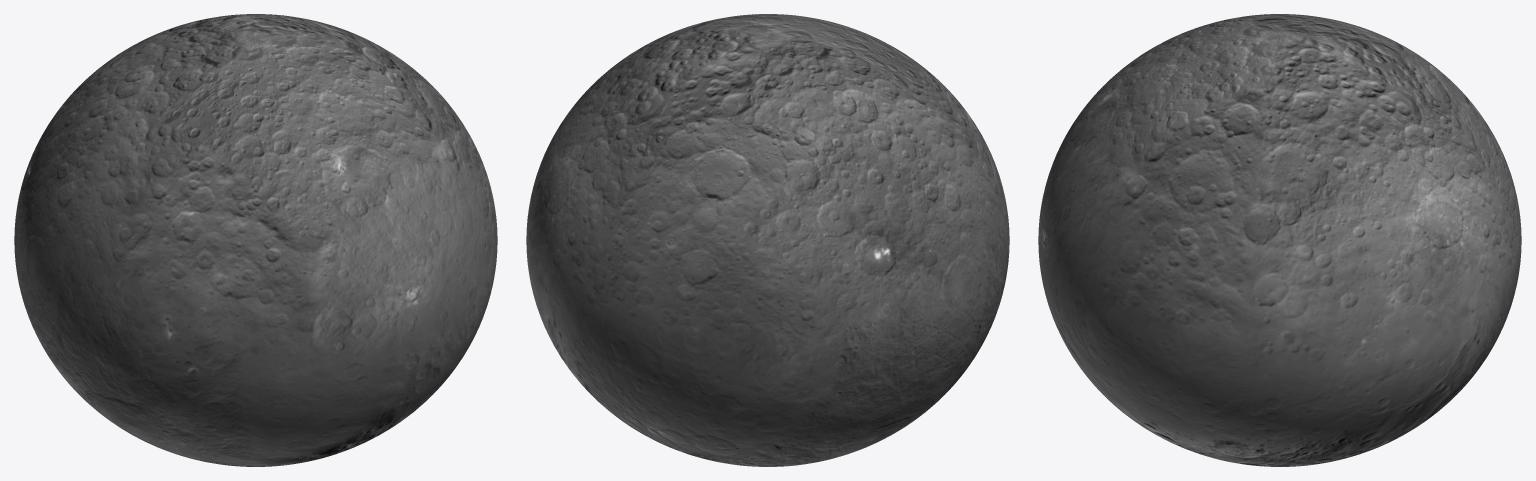
Rendered from ceres.glb.
3 views of the same model, side by side, from view 1: azimuth 30°, elevation 25°; view 2: azimuth 150°, elevation 25°; view 3: azimuth 270°, elevation 25° (orthographic).
Parts seen in each view (by area): view 1: cylindrically_mapped_sphere; view 2: cylindrically_mapped_sphere; view 3: cylindrically_mapped_sphere.
Boxes of the visible parts, x1,y1,x2,y2 form: cylindrically_mapped_sphere: (14,14,497,466); cylindrically_mapped_sphere: (526,14,1009,466); cylindrically_mapped_sphere: (1038,14,1521,466).
Size of the model in its own units: 946 by 873 by 946.
1 material, 1 textured.
